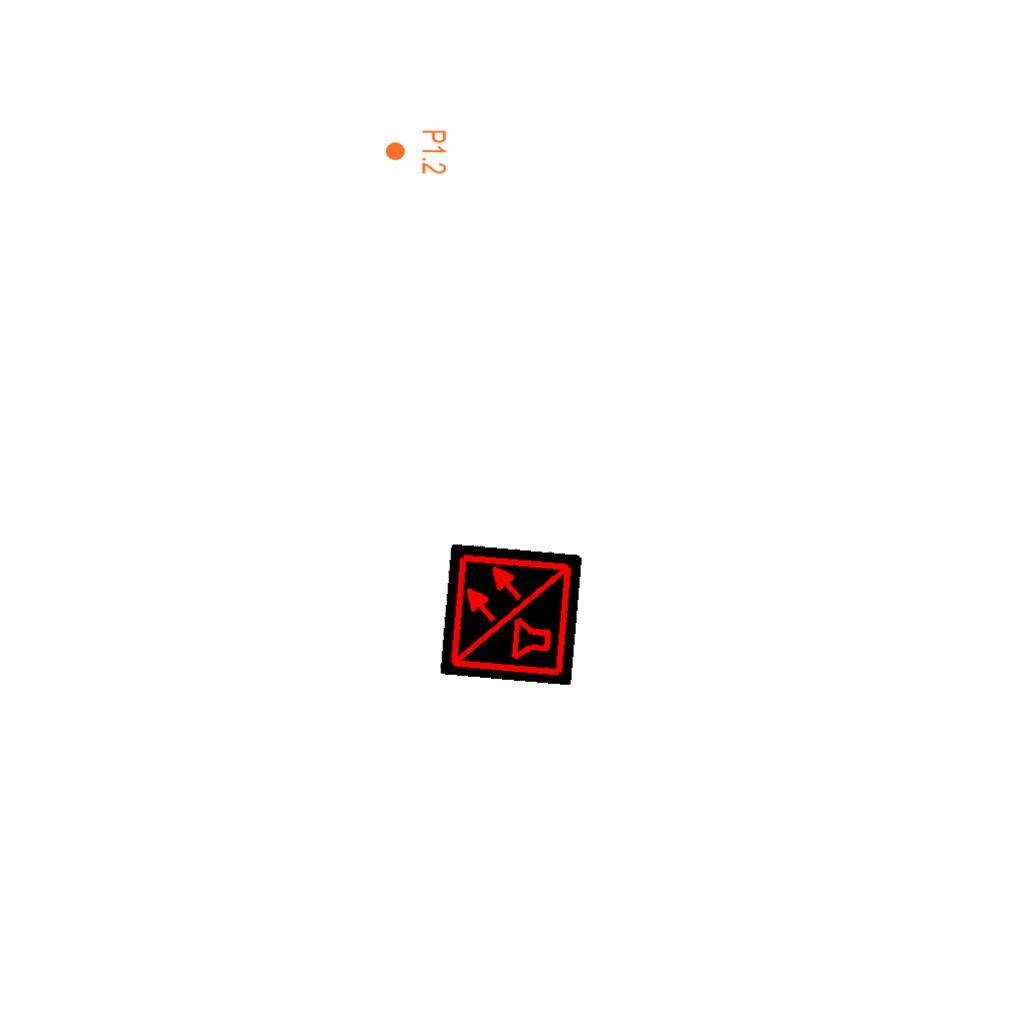Downlight_LED_Einbauleuchten_Flur: (384, 129, 448, 175)
OKW_Multisensormelder_(Kombination_optischer_Rauch-Kahlenmonoxid_Waerme-Melder): (439, 542, 583, 686)
